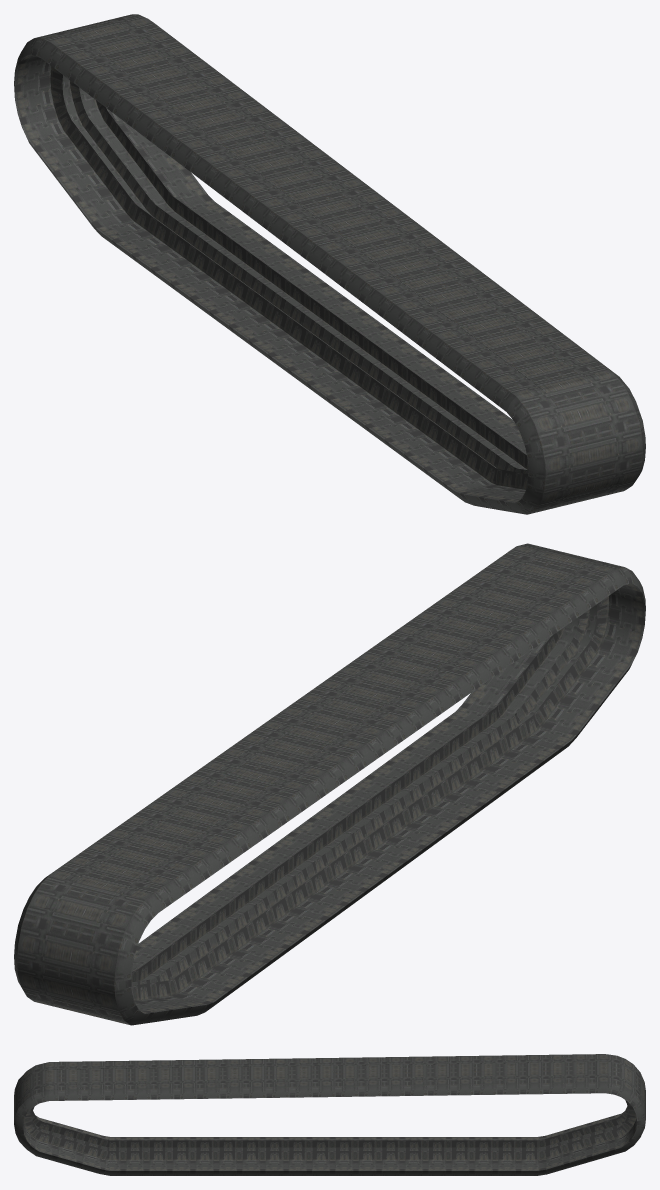
Rendered from track_left.obj.
3 views of the same model, one above another, from view 1: azimuth 30°, elevation 25°; view 2: azimuth 150°, elevation 25°; view 3: azimuth 270°, elevation 25° (orthographic). The views are drawn at different scales.
Parts seen in each view (by area): view 1: track_left; view 2: track_left; view 3: track_left.
Part boxes in pixels (x1,y1,x2,y2): track_left: [14, 14, 645, 514]; track_left: [14, 543, 645, 1025]; track_left: [14, 1054, 645, 1175].
Size of the model in its own units: 1.1 by 1.41 by 8.65.
1 material, 1 textured.
